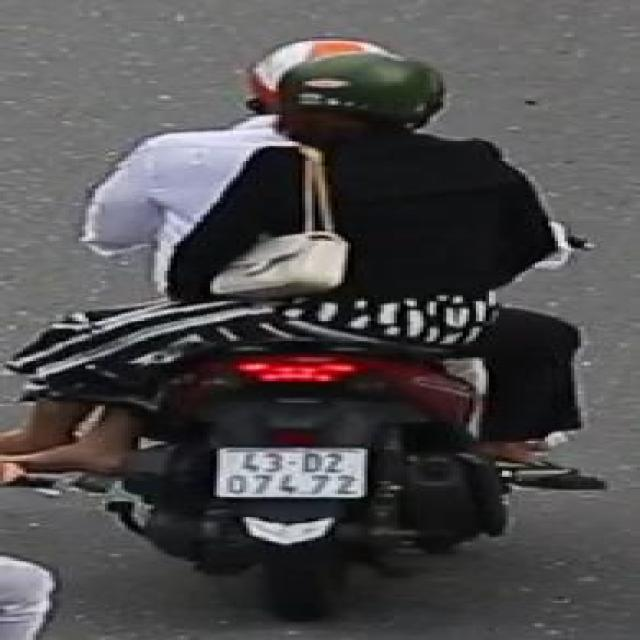LP: (208, 442, 376, 504)
helmet: (276, 35, 456, 147)
